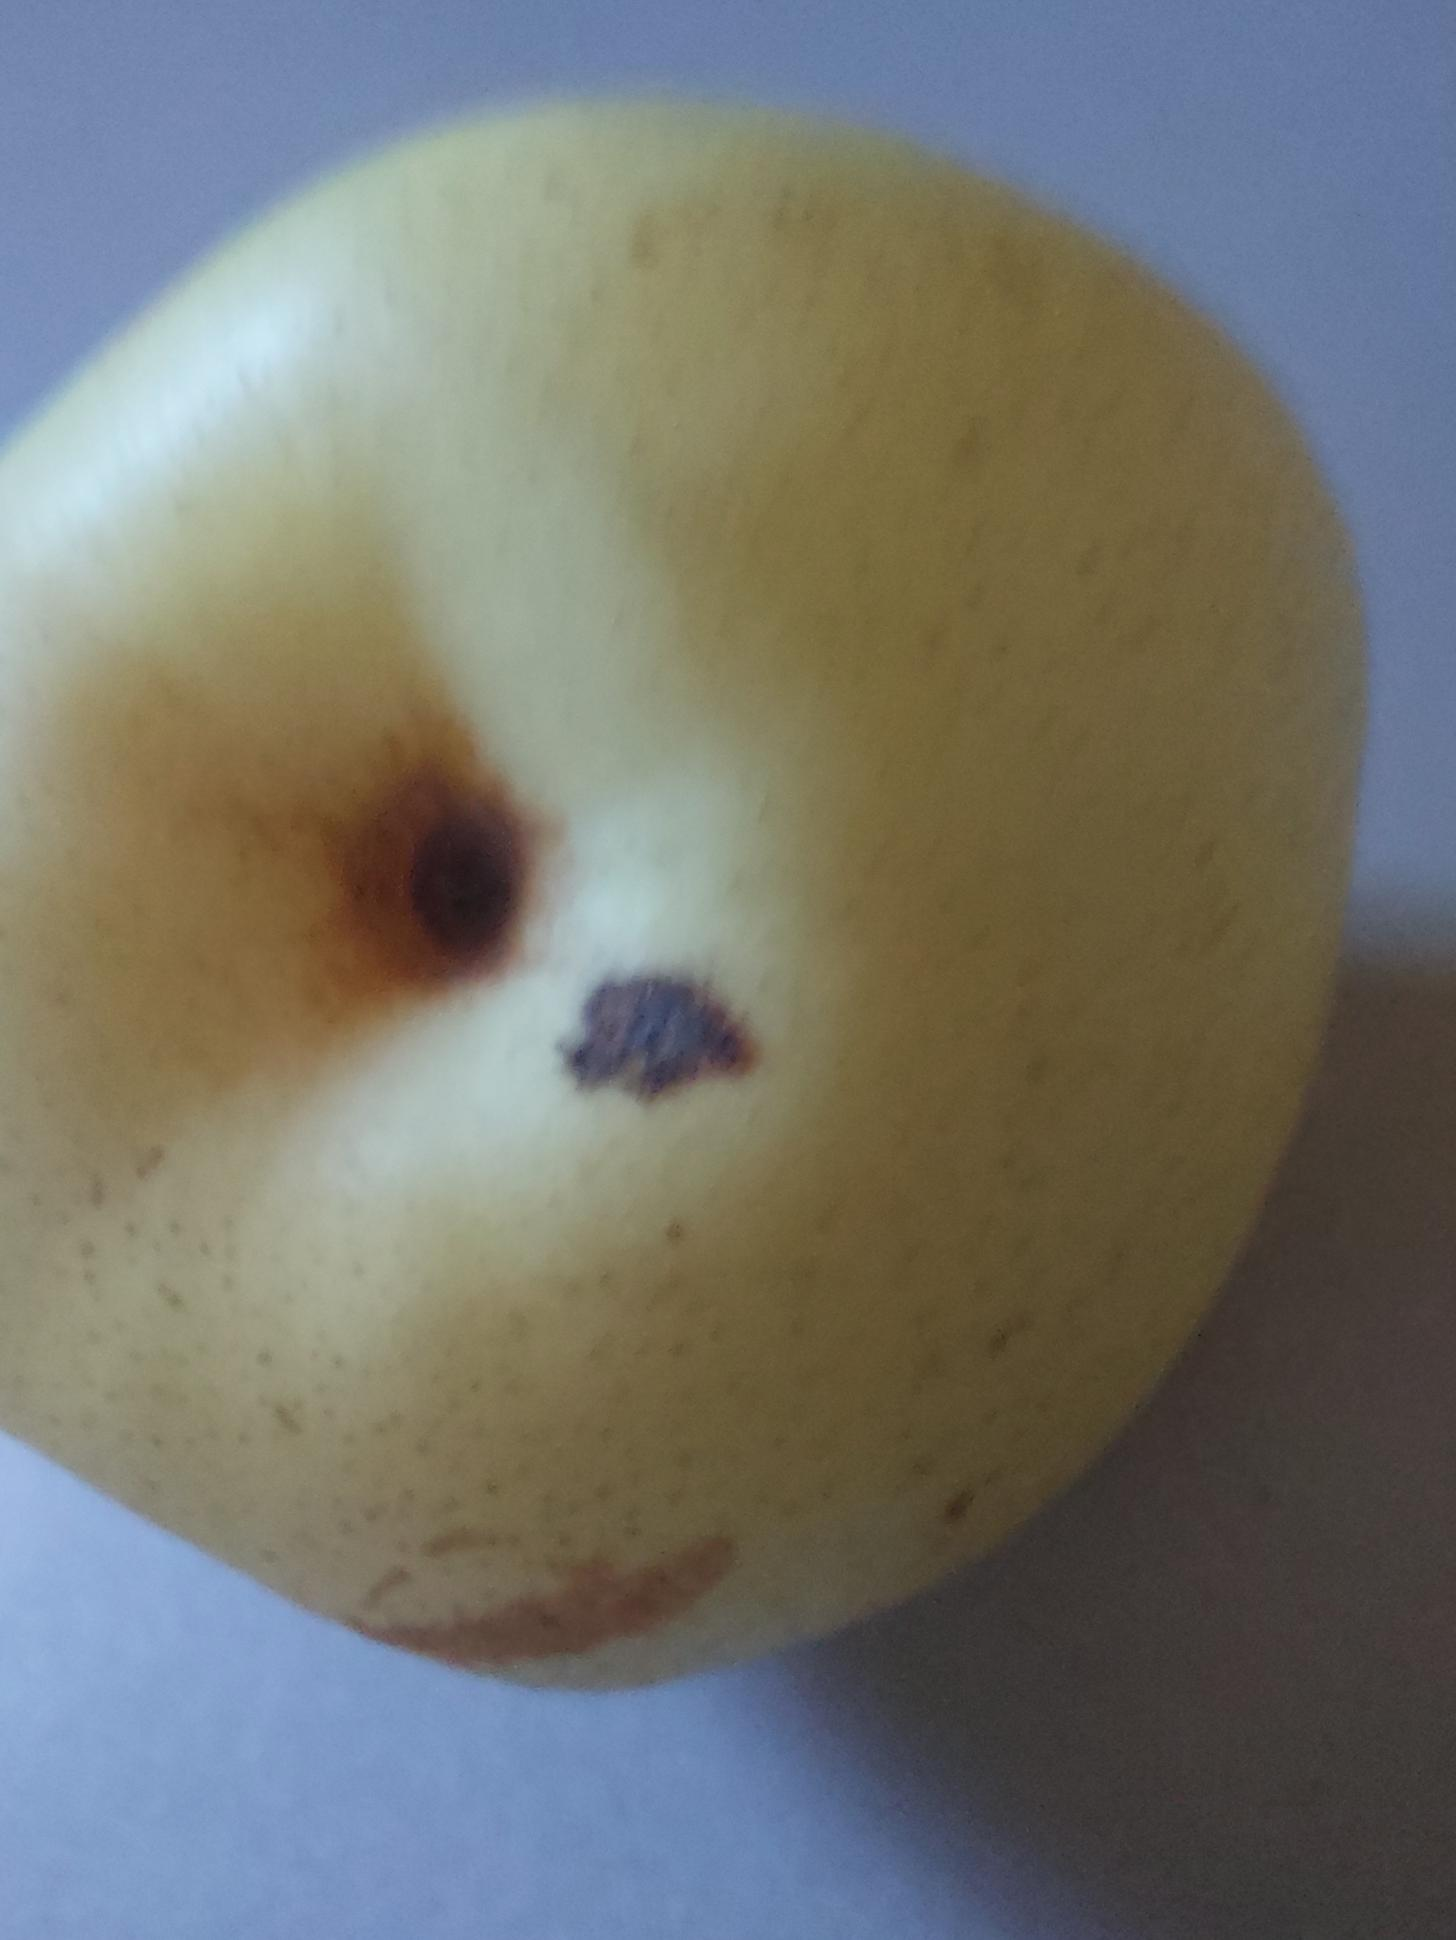Good Pear: (0, 86, 1392, 1735)
